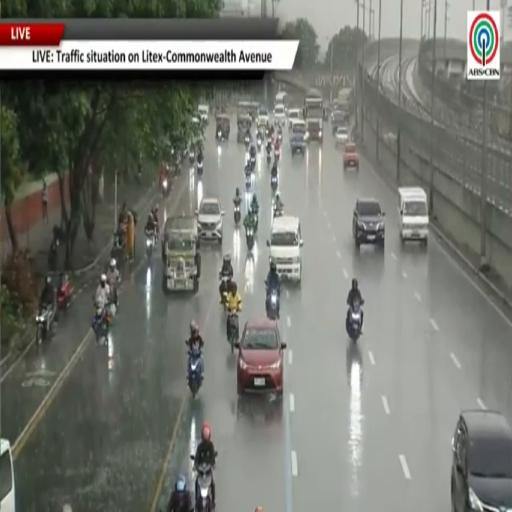car: (451, 410, 511, 511), (236, 318, 286, 394), (352, 198, 384, 249), (197, 198, 224, 243), (0, 439, 16, 511), (343, 142, 359, 170), (331, 110, 348, 134), (334, 126, 350, 146), (288, 108, 302, 129), (273, 104, 285, 125), (198, 104, 209, 124)
jeepney: (216, 113, 230, 142), (237, 115, 251, 142), (248, 102, 260, 122)
motorcycle: (195, 463, 212, 511), (188, 350, 203, 397), (346, 301, 362, 342), (36, 306, 52, 345), (92, 308, 109, 343), (111, 231, 127, 267), (56, 278, 74, 310), (227, 311, 238, 354), (220, 274, 231, 310), (48, 238, 59, 271), (267, 290, 279, 319), (146, 232, 155, 258), (246, 228, 254, 252), (233, 204, 241, 226), (162, 179, 169, 199), (274, 205, 283, 217), (271, 175, 278, 190), (197, 160, 203, 177), (189, 150, 195, 165), (249, 156, 255, 171), (254, 213, 258, 233), (246, 174, 251, 189), (274, 149, 280, 161), (245, 136, 250, 148), (267, 152, 271, 165), (265, 128, 270, 138), (257, 138, 261, 149), (218, 131, 222, 141), (278, 132, 282, 141)
truck: (162, 216, 200, 292), (304, 89, 323, 142), (337, 88, 353, 115)
